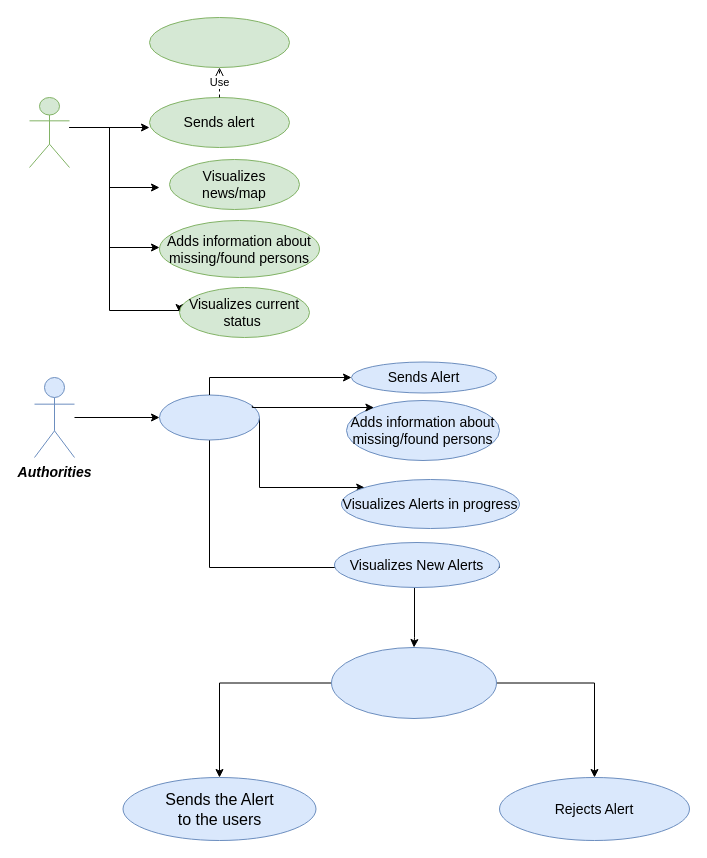
Image size: 707x858. Some labels were removed from this diagram. The centre of each missing label's shape, as x and y in pixels:
"Access details about a New Alert" goes at point (413, 682).
"Adds additional information" goes at point (219, 42).
"Login" goes at point (209, 417).
"User" goes at point (49, 132).
